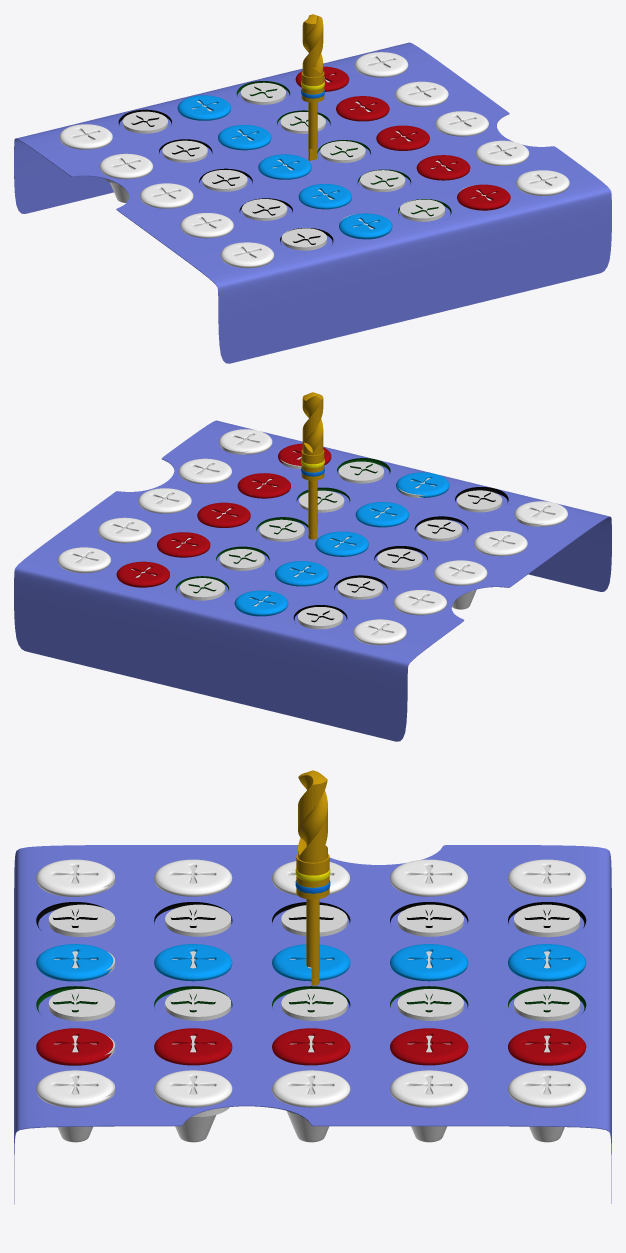
The picture shows the model from 3 angles, top to bottom: view 1: azimuth 30°, elevation 25°; view 2: azimuth 150°, elevation 25°; view 3: azimuth 270°, elevation 25°; orthographic projection. The views are drawn at different scales.
Parts seen in each view (by area): view 1: Plane, Cylinder.002, Cube, Slot.002, Slot.025, Slot.005, Slot.015, Slot.030, Slot.011, Slot.003, Slot.023, Slot.001 (+12 smaller); view 2: Plane, Cylinder.002, Cube, Slot.003, Slot.011, Slot.001, Slot.026, Slot.021, Slot.022, Slot.028, Slot.012, Slot.013 (+12 smaller); view 3: Plane, Cylinder.002, Slot.029, Slot.028, Cube, Slot.026, Slot.027, Slot.030, Slot.021, Slot.001, Slot.011, Slot.004 (+12 smaller).
Boxes of the visible parts, x1,y1,x2,y2 form: Plane: (14,42,611,363); Cylinder.002: (73,57,554,258); Cube: (301,14,324,86); Slot.002: (99,153,152,202); Slot.025: (457,184,510,210); Slot.005: (220,242,273,268); Slot.015: (339,213,392,239); Slot.030: (516,170,569,196); Slot.011: (177,95,230,120); Slot.003: (140,183,193,208); Slot.023: (376,125,429,150); Slot.001: (59,124,112,149); Plane: (14,420,611,741); Cylinder.002: (72,435,553,635); Cube: (301,392,324,464); Slot.003: (434,560,487,609); Slot.011: (234,590,288,616); Slot.001: (353,619,406,645); Slot.026: (57,547,110,573); Slot.021: (116,561,169,587); Slot.022: (157,532,210,557); Slot.028: (138,488,191,513); Slot.012: (275,561,328,586); Slot.013: (315,531,368,556); Plane: (14,845,611,1204); Cylinder.002: (48,867,580,1116); Slot.029: (154,1070,232,1142); Slot.028: (272,1070,350,1142); Cube: (296,770,329,875); Slot.026: (508,1070,586,1142); Slot.027: (390,1070,468,1142); Slot.030: (36,1070,113,1142); Slot.021: (508,1028,586,1065); Slot.001: (507,859,585,896); Slot.011: (508,944,586,981); Slot.004: (154,859,232,896).
Bounding box in the file's own units: 0.1 × 0.0557 × 0.09.
